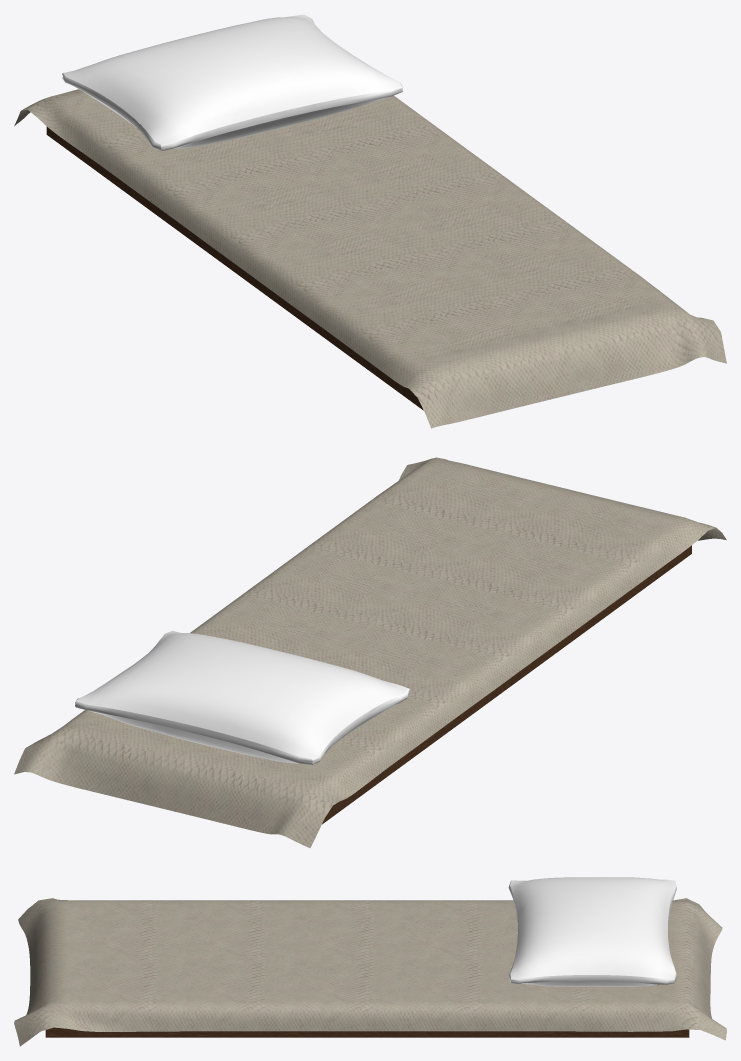
File: bedroll.glb
The picture shows the model from 3 angles, top to bottom: view 1: azimuth 30°, elevation 25°; view 2: azimuth 150°, elevation 25°; view 3: azimuth 270°, elevation 25°; orthographic projection. The views are drawn at different scales.
Parts seen in each view (by area): view 1: SM_SleepingBagCloth_Material #2331_0, SM_Pillow_Material #2332_0, SleepingBag_Material #2333_0; view 2: SM_SleepingBagCloth_Material #2331_0, SM_Pillow_Material #2332_0, SleepingBag_Material #2333_0; view 3: SM_SleepingBagCloth_Material #2331_0, SM_Pillow_Material #2332_0, SleepingBag_Material #2333_0.
Part boxes in pixels (bbox=[...]): SM_SleepingBagCloth_Material #2331_0: bbox=[14, 89, 726, 428]; SM_Pillow_Material #2332_0: bbox=[62, 14, 403, 150]; SleepingBag_Material #2333_0: bbox=[46, 126, 423, 410]; SM_SleepingBagCloth_Material #2331_0: bbox=[14, 457, 726, 847]; SM_Pillow_Material #2332_0: bbox=[75, 630, 409, 764]; SleepingBag_Material #2333_0: bbox=[322, 545, 691, 824]; SM_SleepingBagCloth_Material #2331_0: bbox=[14, 898, 726, 1046]; SM_Pillow_Material #2332_0: bbox=[508, 877, 676, 986]; SleepingBag_Material #2333_0: bbox=[45, 1027, 689, 1037].
Size of the model in its own units: 0.8923 by 0.275 by 2.17.
3 materials, 3 textured.
